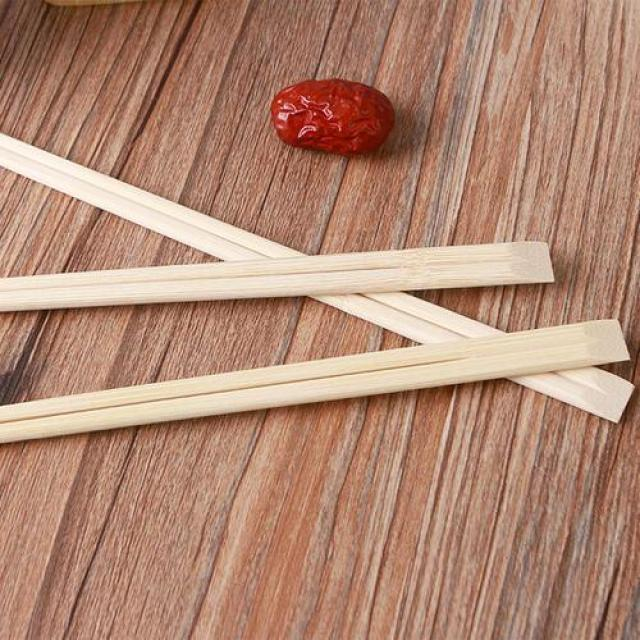Wet: (270, 78, 396, 154)
